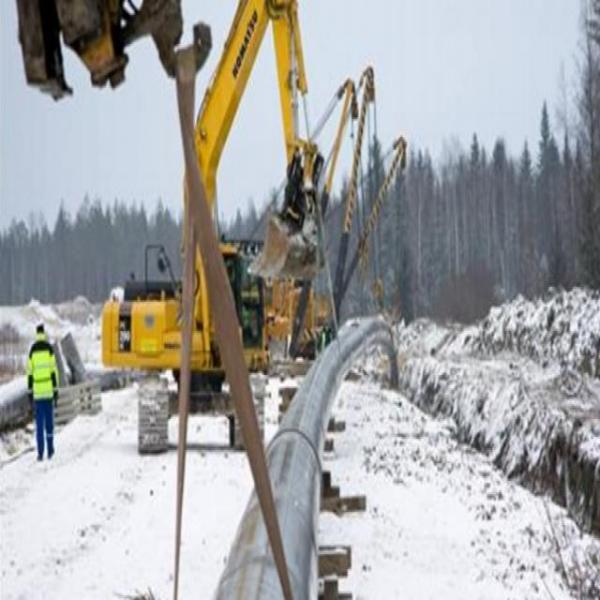no leak: (261, 402, 343, 456)
